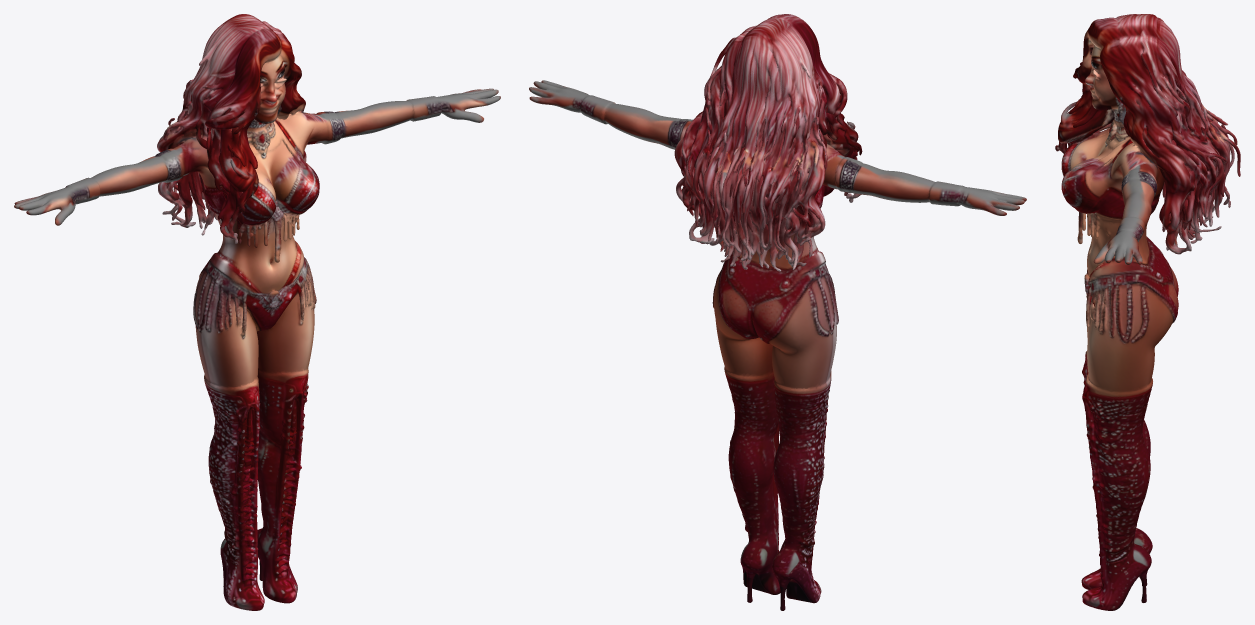
Rendered from yasmin.glb.
The picture shows the model from 3 angles, left to right: view 1: azimuth 30°, elevation 25°; view 2: azimuth 150°, elevation 25°; view 3: azimuth 270°, elevation 25°; orthographic projection. The views are drawn at different scales.
Visible parts, largest first — view 1: tripo_node_c523b13b-1f5f-4c14-8262-63e787f6b4ea; view 2: tripo_node_c523b13b-1f5f-4c14-8262-63e787f6b4ea; view 3: tripo_node_c523b13b-1f5f-4c14-8262-63e787f6b4ea.
Boxes of the visible parts, x1,y1,x2,y2 form: tripo_node_c523b13b-1f5f-4c14-8262-63e787f6b4ea: (14, 14, 500, 610); tripo_node_c523b13b-1f5f-4c14-8262-63e787f6b4ea: (529, 14, 1026, 610); tripo_node_c523b13b-1f5f-4c14-8262-63e787f6b4ea: (1055, 14, 1240, 610).
Bounding box in the file's own units: 0.8834 × 1 × 0.2906.
1 material, 1 textured.
